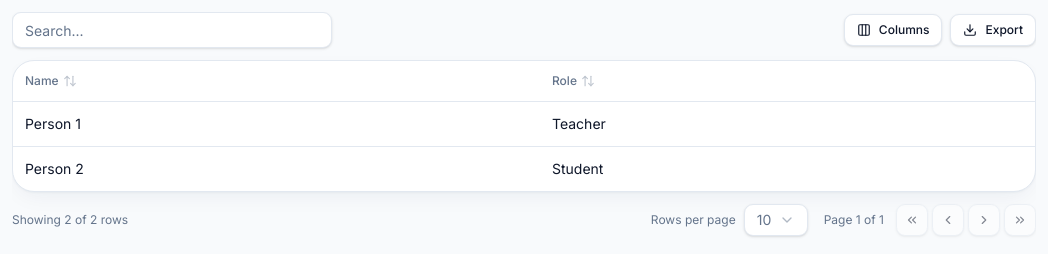
Scenario: DataTable — column visibility and export › toggling a column checkbox off hides that column header
The image size is (1048, 254).
Expected: the column heading "Role" is shown, [540,61,1035,101]
Click the button "Columns" at (893, 30), box [844,14,942,46]
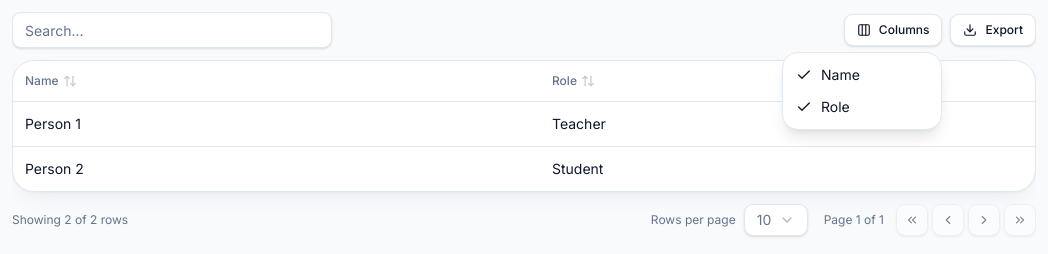
Click the menu item "role" at (823, 106), box [796,98,850,115]
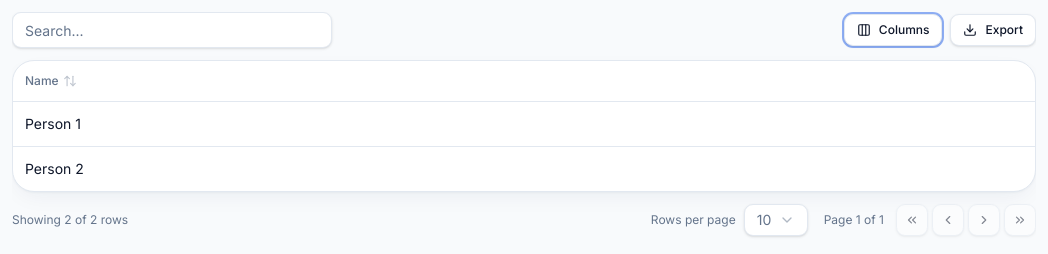
Expected: the button "Role" is gone
